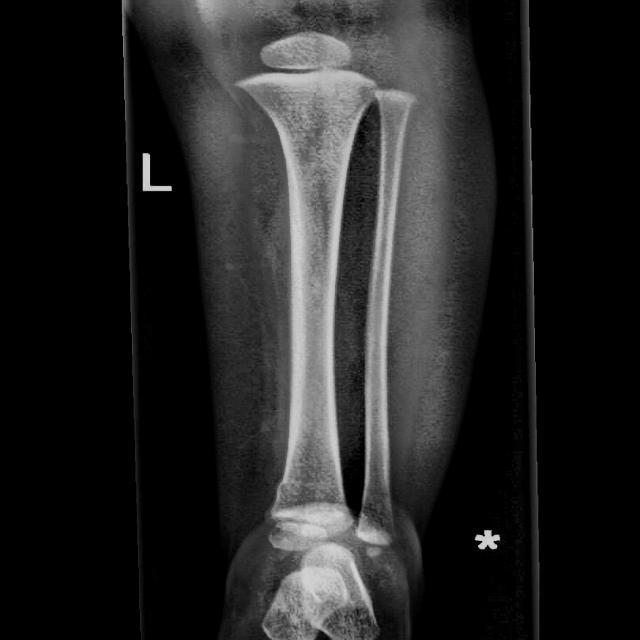fracture: (274, 475, 312, 493)
